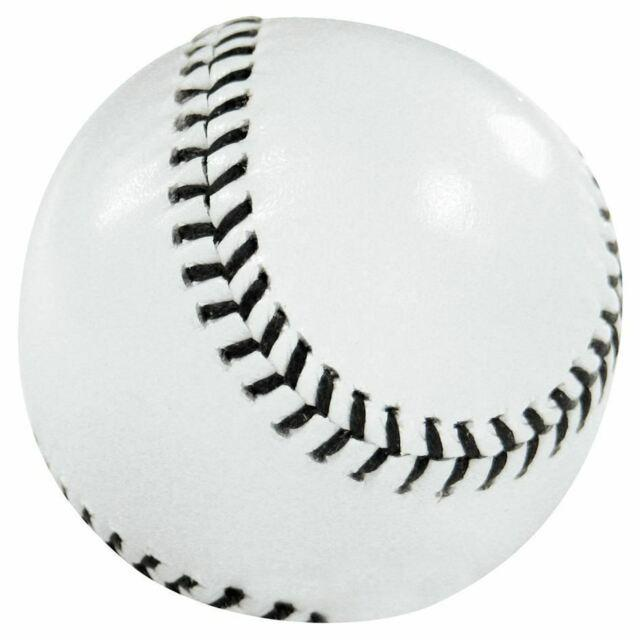ball: (8, 5, 640, 629)
